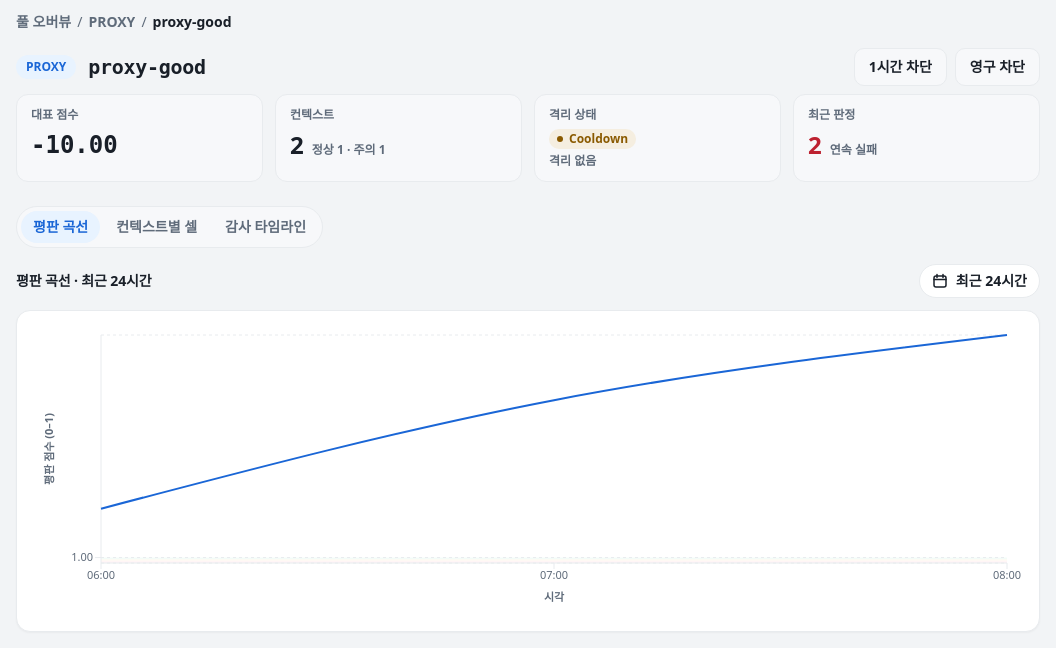
Scenario: 리소스 상세 화면 (integration + MSW) › 헤더·탭(곡선/셀/타임라인)을 렌더하고, 셀 탭에서 표를 보여준다
Expected: the heading "proxy-good" is shown, [88,55,206,79]
Expected: the element named "리소스 상세 보기" is shown, [16,206,323,248]
Click the tab "컨텍스트별 셀" at (157, 227), box [104,211,209,243]
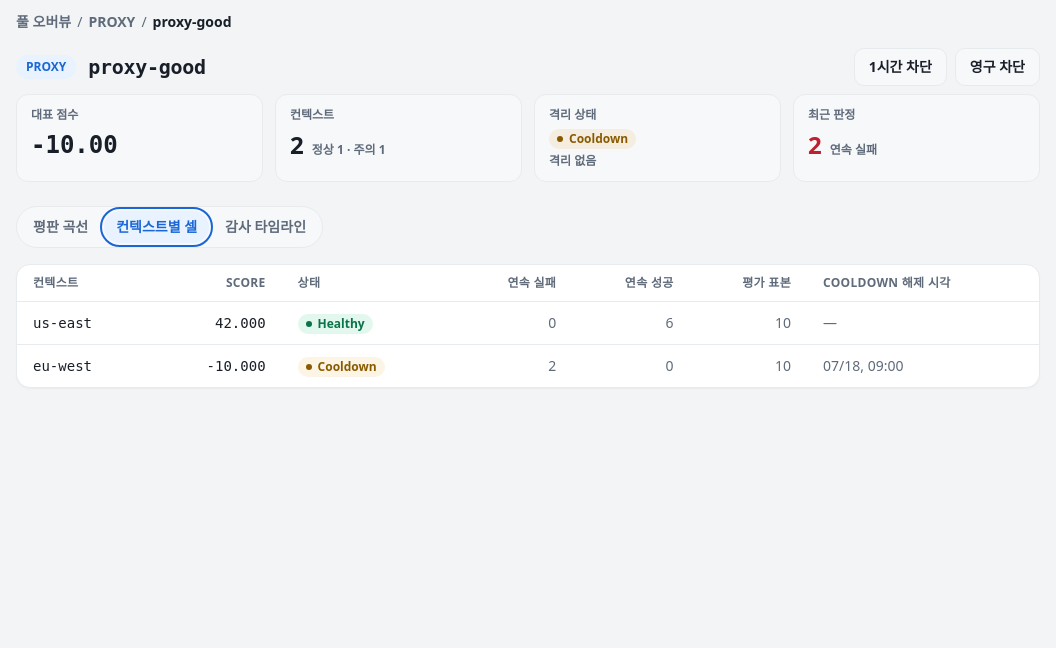
Result: the text "us-east" is shown at [17,302,149,344]
Result: the text "eu-west" is shown at [17,344,149,387]
Result: the text "Healthy" is shown at [298,314,373,334]
